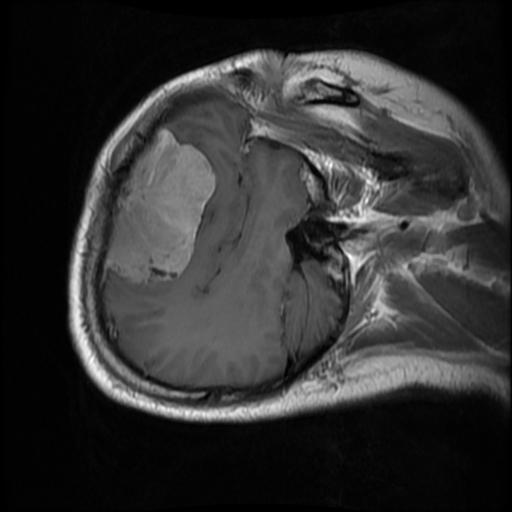meningioma: (106, 128, 213, 283)
